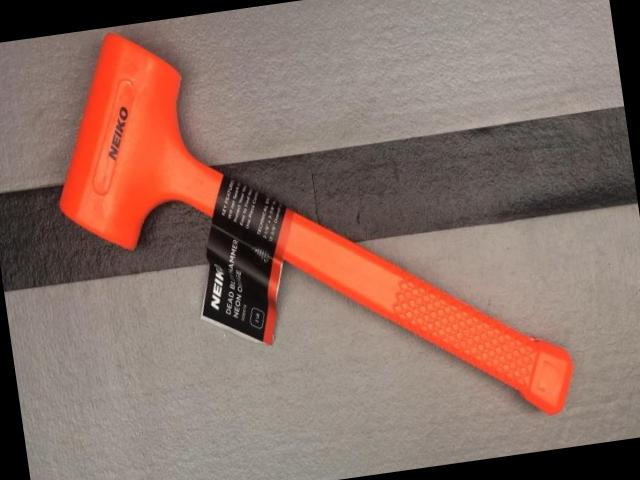hammer: (39, 0, 580, 476)
